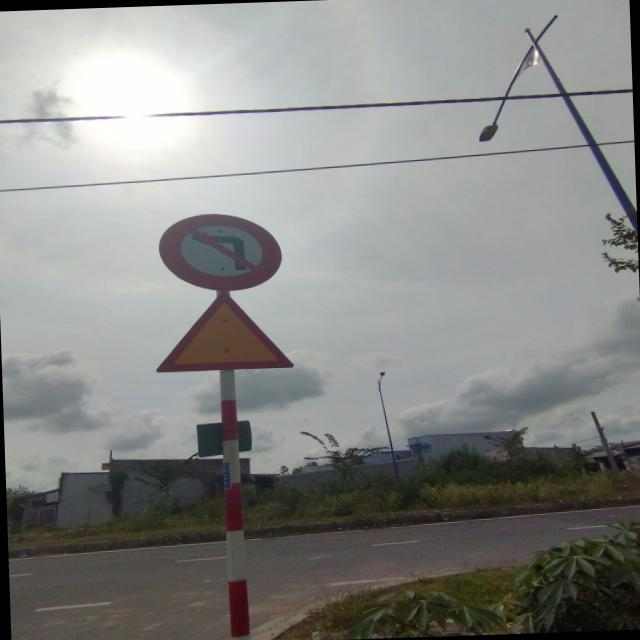Cam_Re_Trai: (157, 211, 283, 293)
Gioi_Han_Toc_Do_25: (153, 287, 295, 372)
